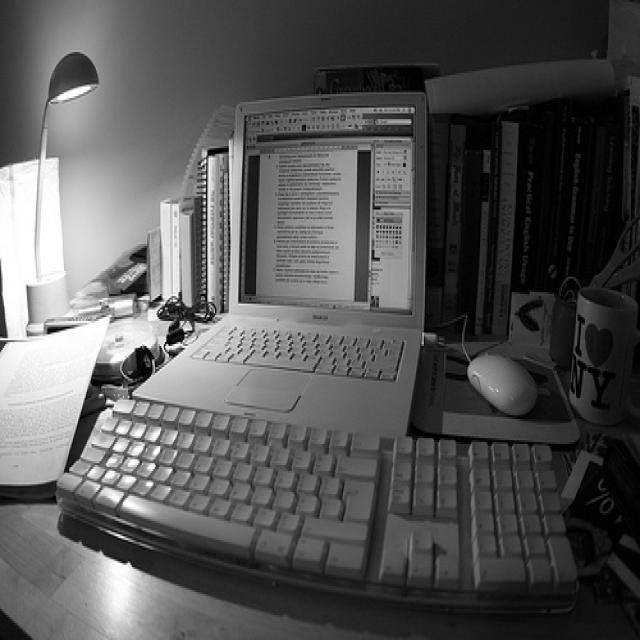Cup: (564, 287, 634, 417)
Table: (3, 309, 640, 640)
